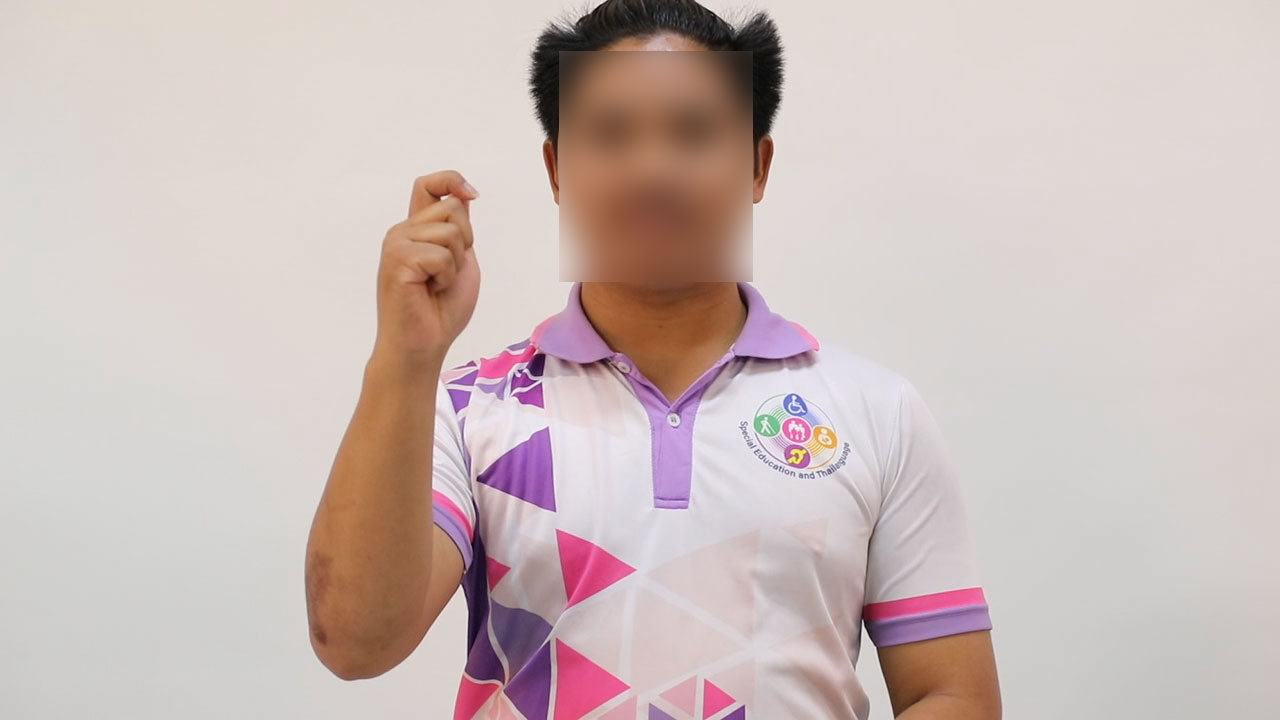or: (367, 158, 493, 377)
